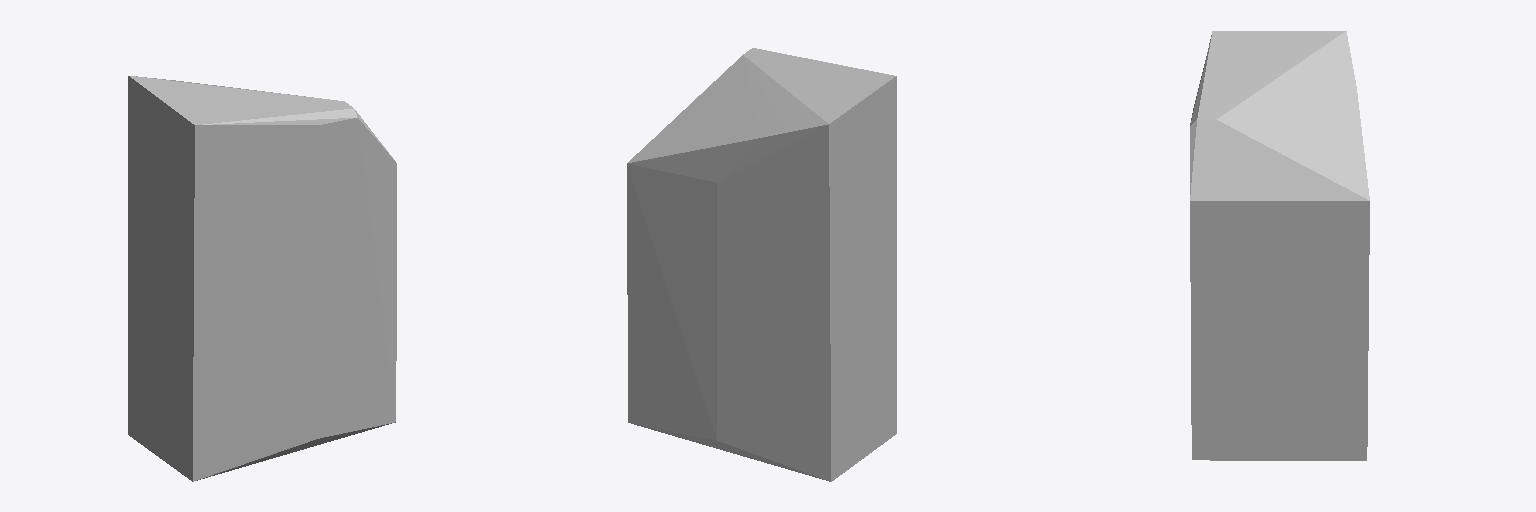
Rendered from solo_12_base_collision_10.obj.
The picture shows the model from 3 angles: view 1: azimuth 30°, elevation 25°; view 2: azimuth 150°, elevation 25°; view 3: azimuth 270°, elevation 25°; orthographic projection.
Bounding box in the file's own units: 0.0616 × 0.1097 × 0.05.